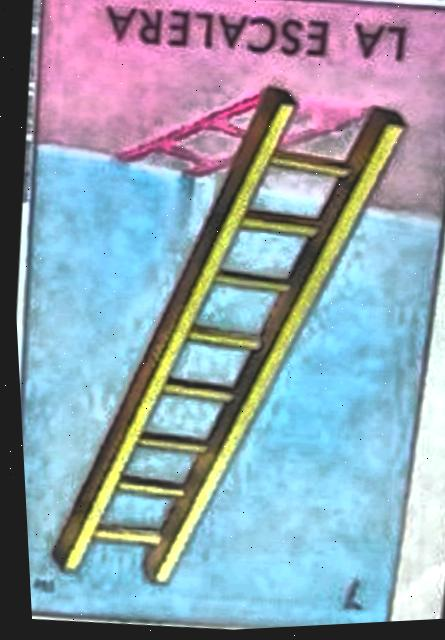La Escalera: (15, 0, 445, 630)
